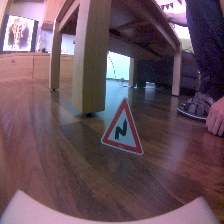vorsicht: (95, 97, 145, 157)
